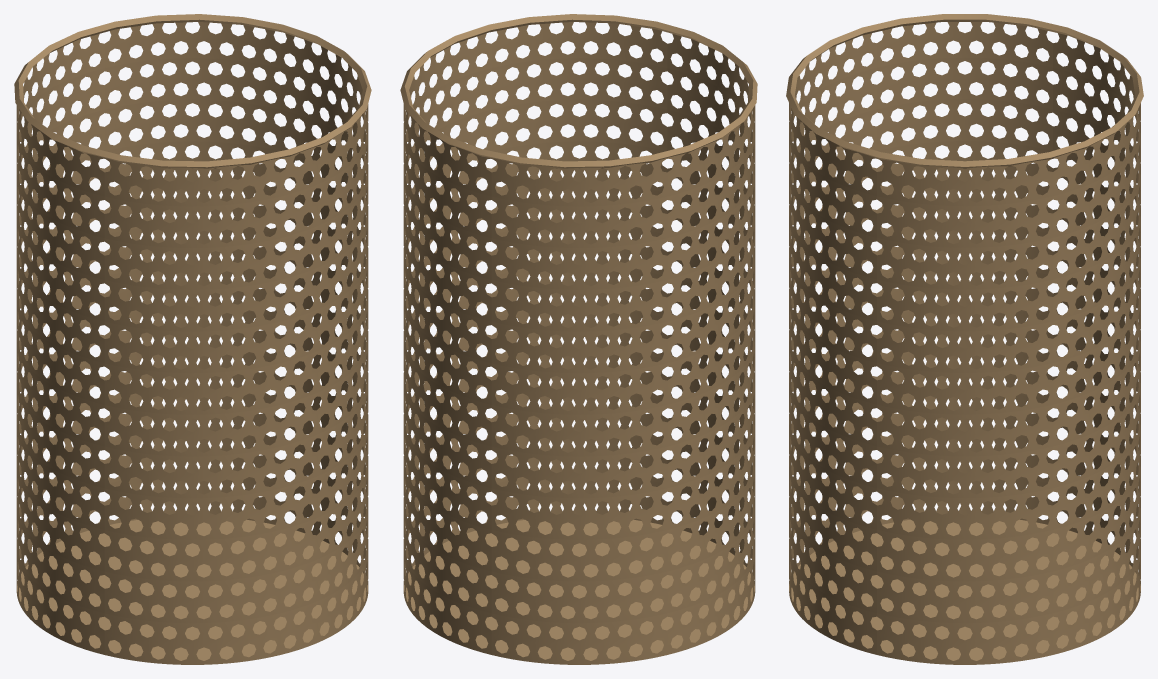
The model's file is fbx_Ben_V4.0.fbx.
3 renders of one model, left to right at view 1: azimuth 30°, elevation 25°; view 2: azimuth 150°, elevation 25°; view 3: azimuth 270°, elevation 25°, orthographic.
Visible parts, largest first — view 1: polySurface756; view 2: polySurface756; view 3: polySurface756.
Boxes of the visible parts, x1=… form: polySurface756: x1=14, y1=14, x2=371, y2=664; polySurface756: x1=400, y1=14, x2=757, y2=664; polySurface756: x1=786, y1=14, x2=1143, y2=664.
Bounding box in the file's own units: 40.62 × 63.15 × 40.7.
